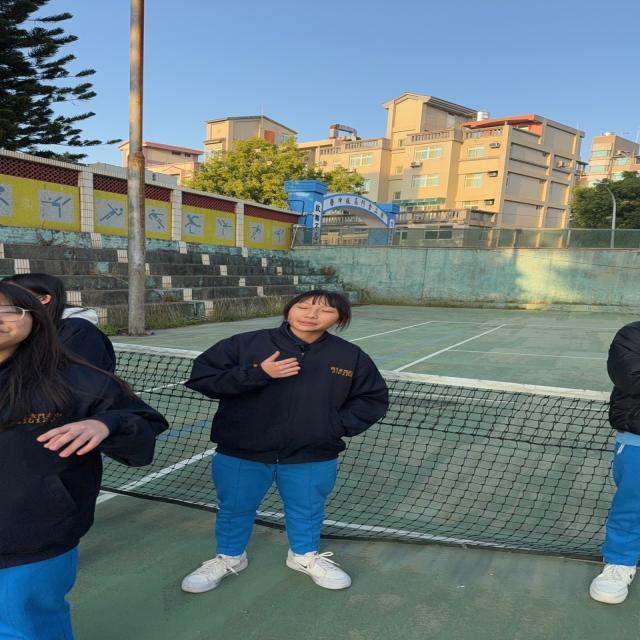stand: (0, 287, 141, 640), (208, 270, 354, 608)
